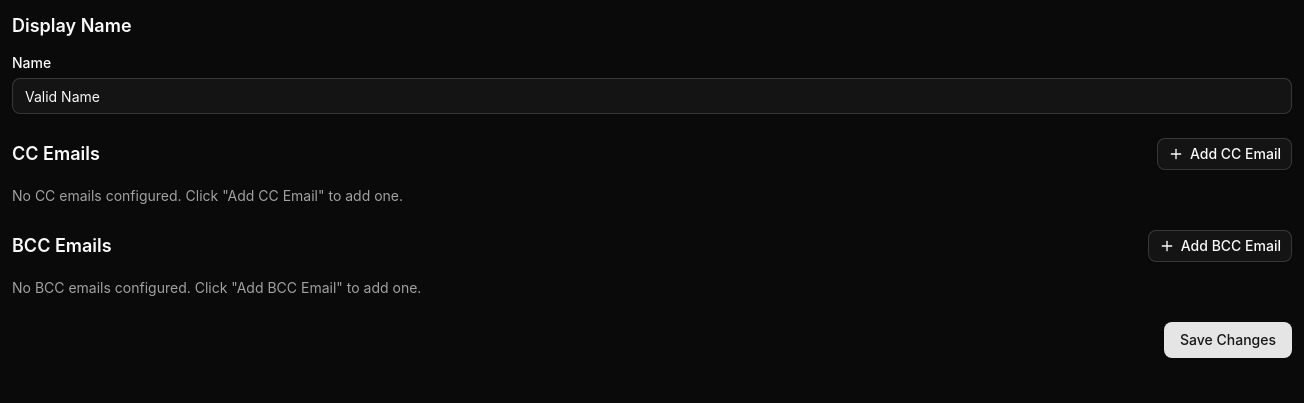
Scenario: ProfileForm › Validation › shows validation error for empty name
# Clear the name field
Clear the field labelled "Name" at (652, 96), box [12,78,1292,114]
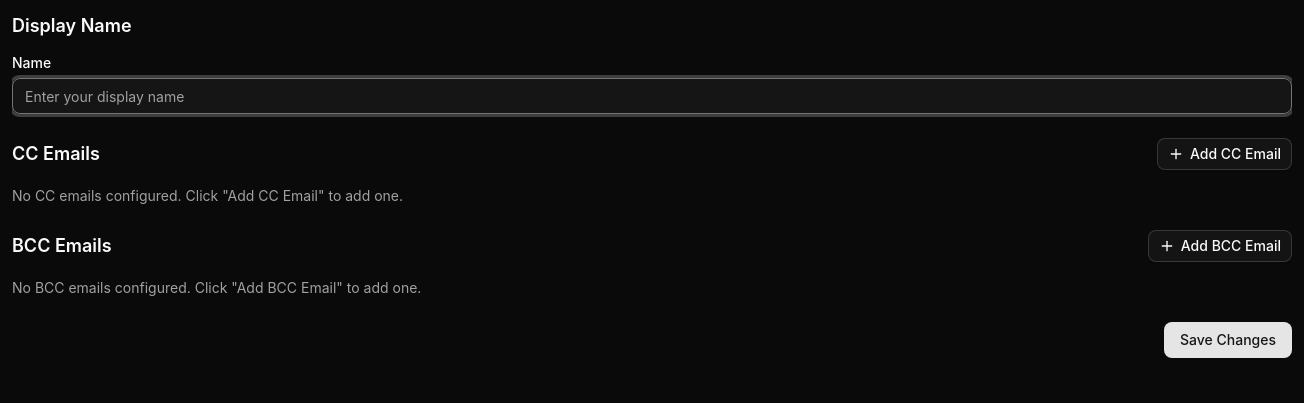
Click the button "Save Changes" at (1228, 340), box [1164,322,1292,358]
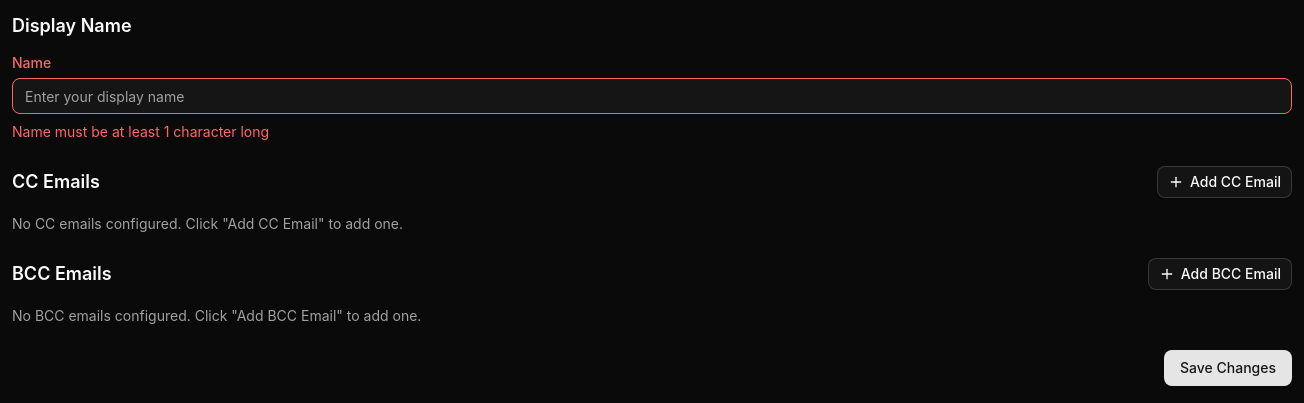
Result: the text "Name must be at least 1 character long" is shown at [12,123,269,140]
